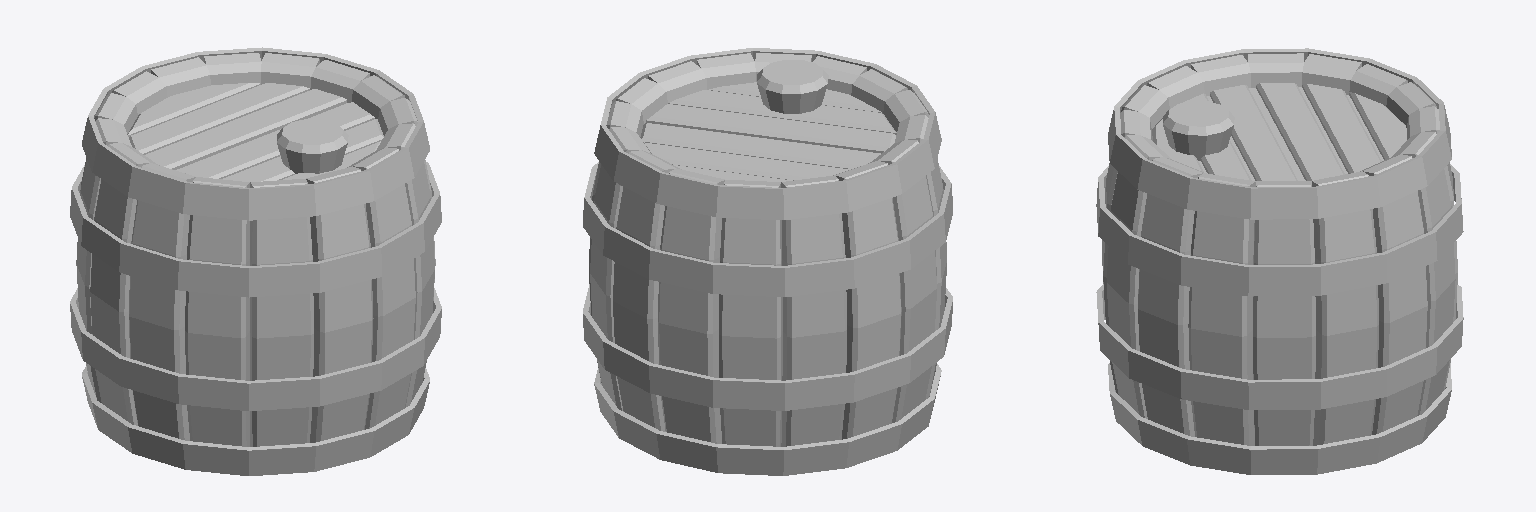
Rendered from Barrel4.obj.
3 views of the same model, side by side, from view 1: azimuth 30°, elevation 25°; view 2: azimuth 150°, elevation 25°; view 3: azimuth 270°, elevation 25° (orthographic).
Visible parts, largest first — view 1: Barrel4; view 2: Barrel4; view 3: Barrel4.
Part boxes in pixels (x1,y1,x2,y2): Barrel4: (70,47,441,475); Barrel4: (583,48,952,475); Barrel4: (1096,48,1463,474).
Size of the model in its own units: 3.64 by 3.28 by 3.64.